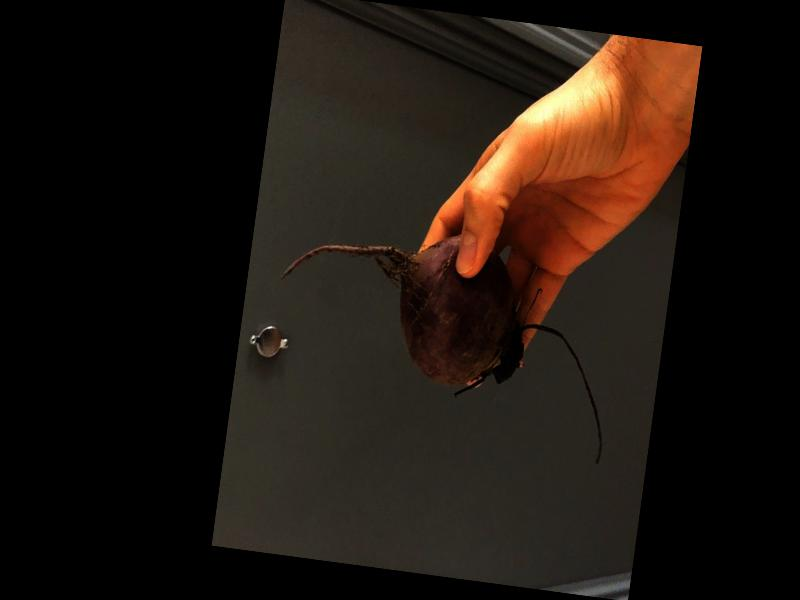Beet: (263, 212, 627, 466)
